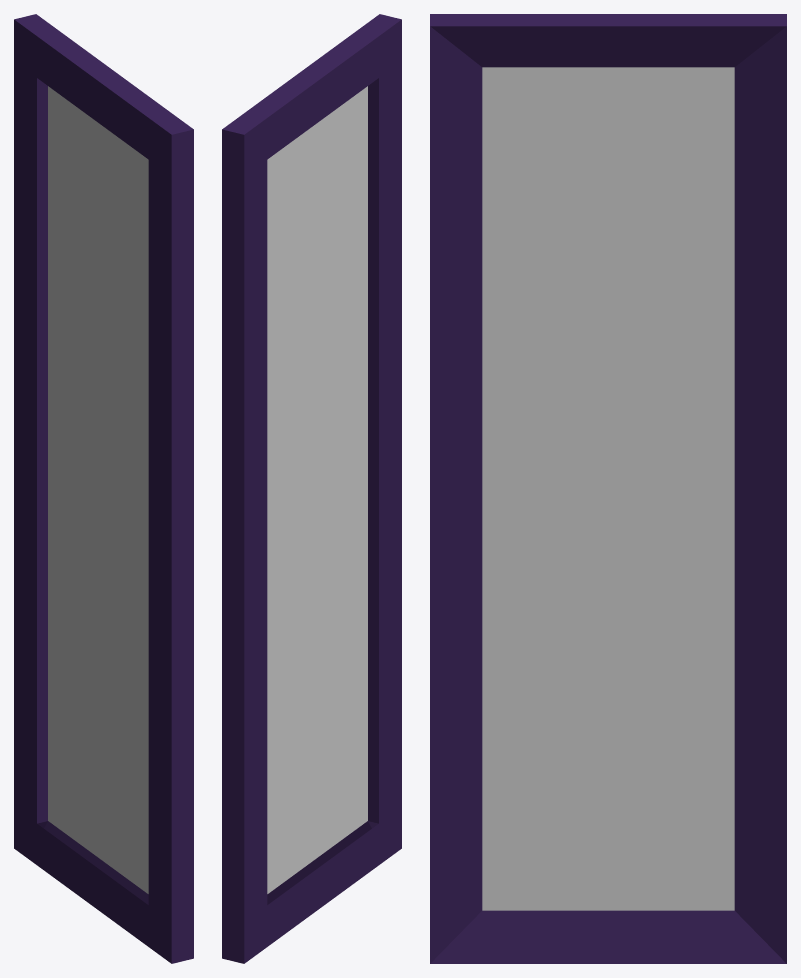
File: door.fbx
3 renders of one model, left to right at view 1: azimuth 30°, elevation 25°; view 2: azimuth 150°, elevation 25°; view 3: azimuth 270°, elevation 25°, orthographic. The views are drawn at different scales.
Parts seen in each view (by area): view 1: Door; view 2: Door; view 3: Door.
Boxes of the visible parts, box(x1,y1,x2,y2) form: Door: box(14, 14, 193, 963); Door: box(222, 14, 401, 963); Door: box(430, 14, 786, 963).
Bounding box in the file's own units: 20 × 715 × 247.
Materials: 2 (1 with a texture image).
